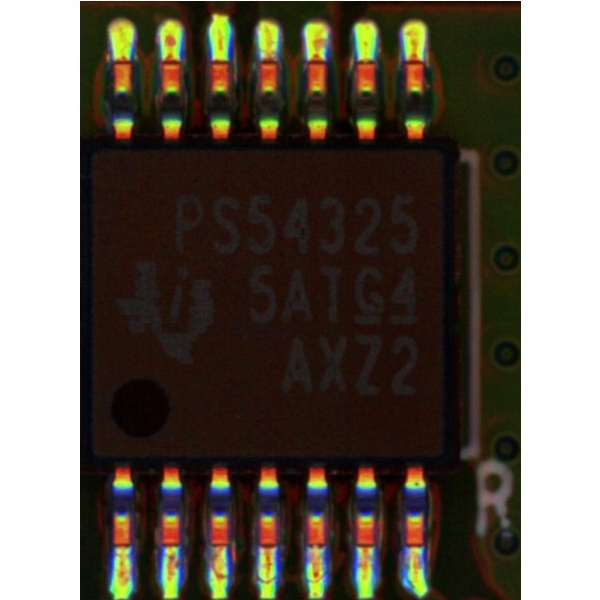Bad_podu: (357, 536, 371, 561), (308, 52, 322, 74), (407, 48, 419, 72), (309, 535, 321, 559), (163, 50, 175, 72), (115, 533, 125, 559), (263, 50, 275, 71), (261, 535, 271, 560), (213, 534, 223, 558)
